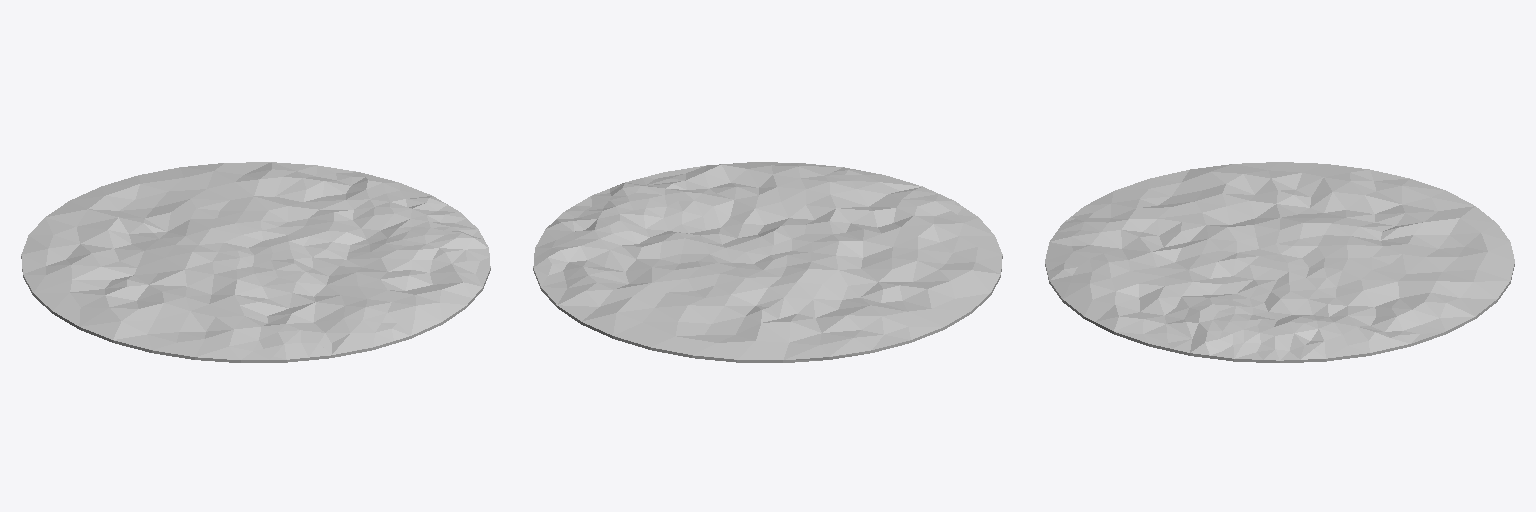
The model's file is terraintest.obj.
The picture shows the model from 3 angles: view 1: azimuth 30°, elevation 25°; view 2: azimuth 150°, elevation 25°; view 3: azimuth 270°, elevation 25°; orthographic projection.
Visible parts, largest first — view 1: 실린더; view 2: 실린더; view 3: 실린더.
Boxes of the visible parts, x1=… form: 실린더: x1=21, y1=162, x2=490, y2=362; 실린더: x1=533, y1=162, x2=1002, y2=362; 실린더: x1=1045, y1=162, x2=1514, y2=362.
Bounding box in the file's own units: 165 × 6.29 × 165.